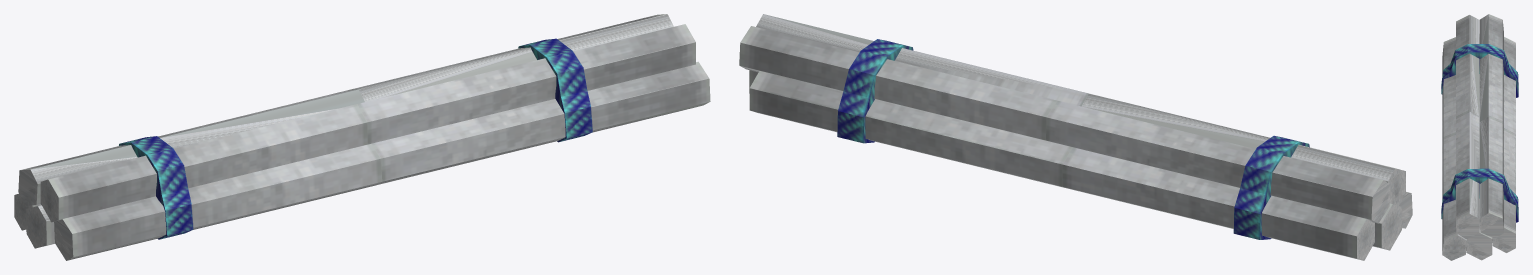
Rendered from CSR_BoundMetalBars5.fbx.
3 renders of one model, left to right at view 1: azimuth 30°, elevation 25°; view 2: azimuth 150°, elevation 25°; view 3: azimuth 270°, elevation 25°, orthographic. The views are drawn at different scales.
Parts seen in each view (by area): view 1: Bound MEtal Bars x5; view 2: Bound MEtal Bars x5; view 3: Bound MEtal Bars x5.
Part boxes in pixels (x1,y1,x2,y2): Bound MEtal Bars x5: [14, 14, 710, 260]; Bound MEtal Bars x5: [739, 14, 1412, 260]; Bound MEtal Bars x5: [1441, 14, 1518, 260].
Size of the model in its own units: 0.4251 by 0.0491 by 0.0692.
1 material, 1 textured.
